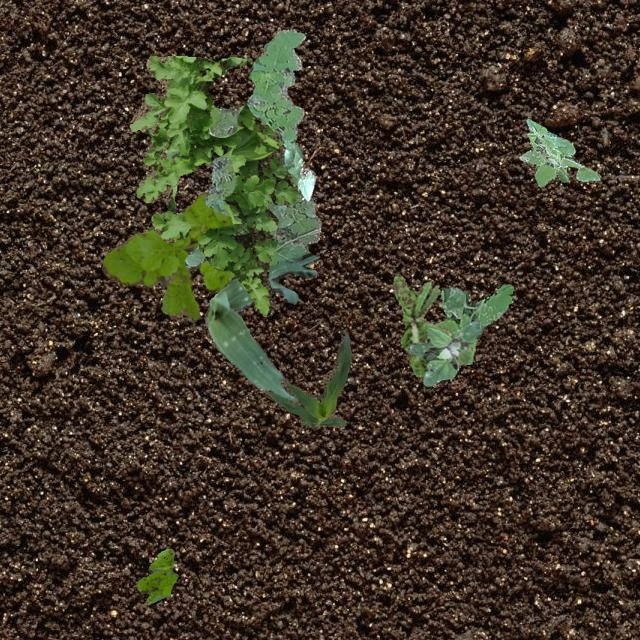crop: (204, 253, 316, 402), (264, 328, 352, 428), (280, 144, 314, 204)
weed: (128, 54, 298, 316), (183, 70, 320, 266), (100, 192, 234, 320), (246, 29, 304, 150), (430, 284, 514, 364), (392, 274, 450, 376), (518, 118, 600, 186), (408, 320, 478, 386), (136, 548, 176, 604)
